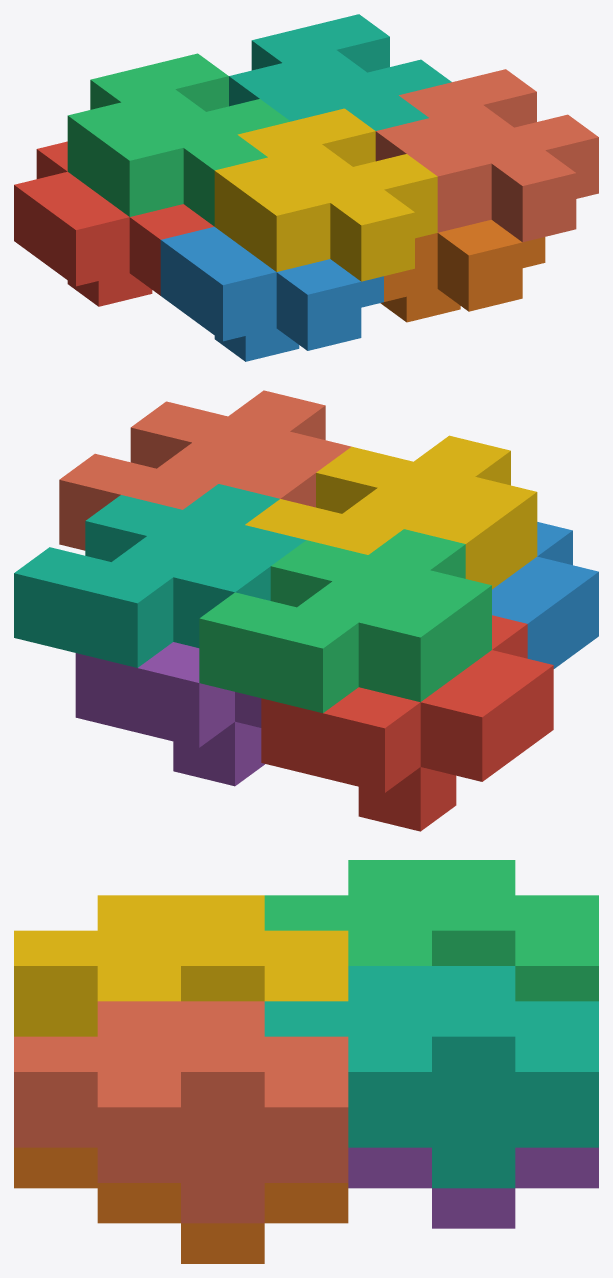
The model's file is tiling.obj.
3 views of the same model, one above another, from view 1: azimuth 30°, elevation 25°; view 2: azimuth 150°, elevation 25°; view 3: azimuth 270°, elevation 25° (orthographic). The views are drawn at different scales.
Parts seen in each view (by area): view 1: copy_1_domain_4, copy_1_domain_8, copy_1_domain_3, copy_1_domain_2, copy_1_domain_1, copy_1_domain_7, copy_1_domain_6; view 2: copy_1_domain_3, copy_1_domain_7, copy_1_domain_1, copy_1_domain_4, copy_1_domain_8, copy_1_domain_5, copy_1_domain_2; view 3: copy_1_domain_8, copy_1_domain_7, copy_1_domain_4, copy_1_domain_3, copy_1_domain_6, copy_1_domain_5.
Boxes of the visible parts, x1,y1,x2,y2 form: copy_1_domain_4: [214, 108, 437, 281]; copy_1_domain_8: [375, 69, 598, 242]; copy_1_domain_3: [67, 53, 290, 226]; copy_1_domain_2: [160, 226, 383, 361]; copy_1_domain_1: [14, 141, 213, 306]; copy_1_domain_7: [229, 14, 451, 130]; copy_1_domain_6: [380, 219, 545, 322]; copy_1_domain_3: [199, 529, 491, 713]; copy_1_domain_7: [14, 484, 305, 667]; copy_1_domain_1: [261, 615, 553, 831]; copy_1_domain_4: [245, 435, 537, 589]; copy_1_domain_8: [59, 390, 351, 550]; copy_1_domain_5: [75, 642, 264, 786]; copy_1_domain_2: [492, 522, 598, 668]; copy_1_domain_8: [14, 1001, 348, 1223]; copy_1_domain_7: [264, 966, 598, 1188]; copy_1_domain_4: [14, 895, 348, 1036]; copy_1_domain_3: [264, 860, 598, 1001]; copy_1_domain_6: [14, 1147, 348, 1263]; copy_1_domain_5: [348, 1147, 598, 1228].
Size of the model in its own units: 8 by 3 by 7.
